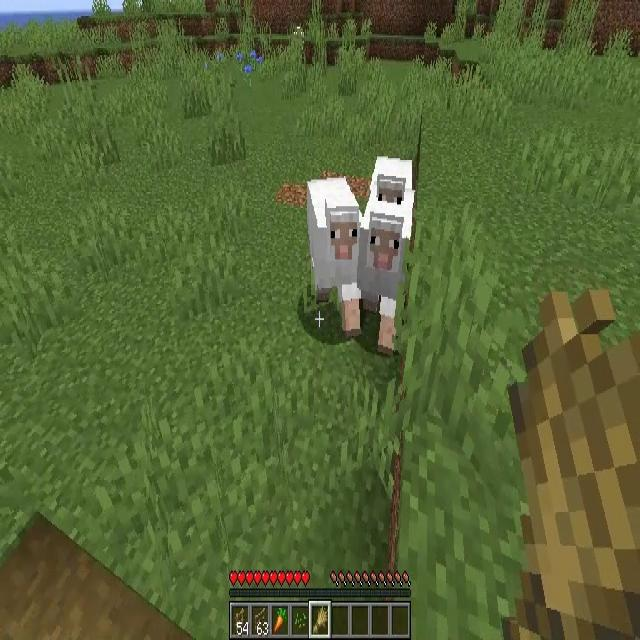sheep: (307, 177, 360, 324), (359, 205, 413, 330), (372, 154, 413, 205)
